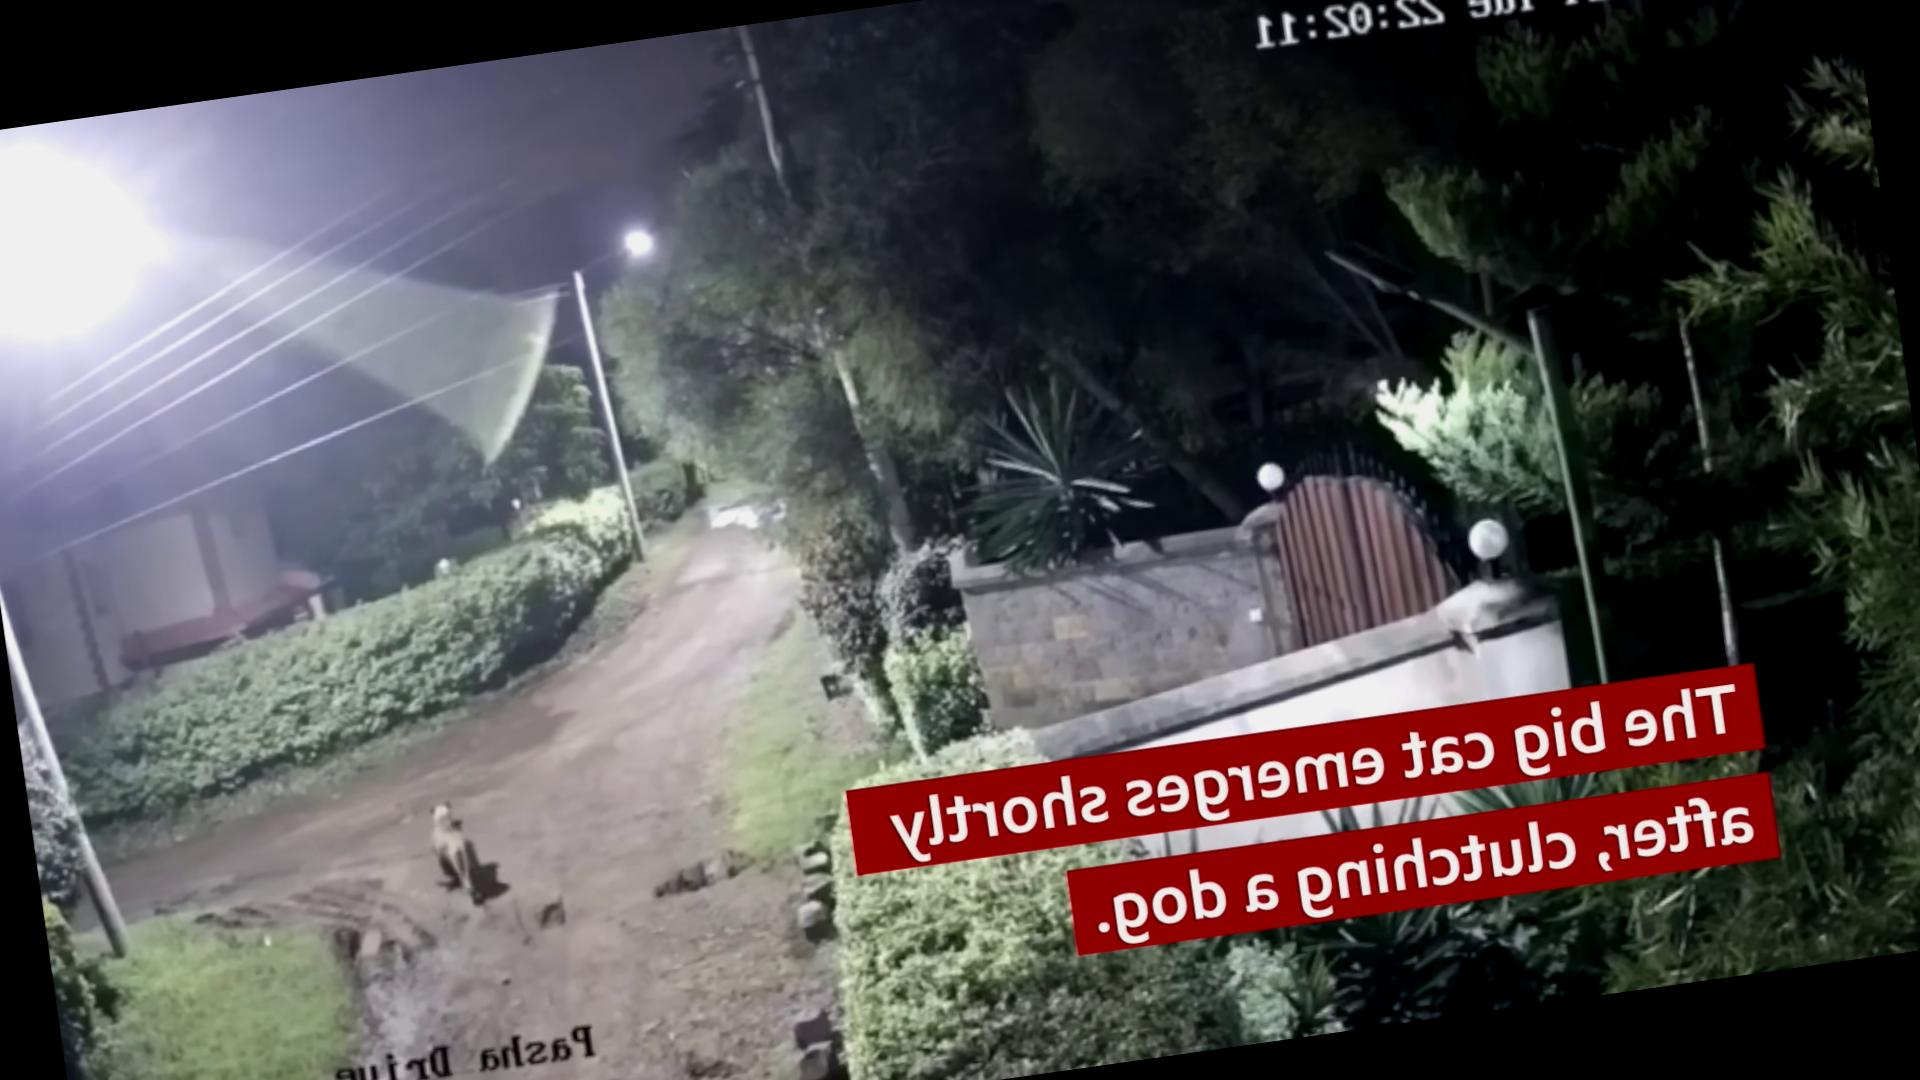lions: (394, 762, 544, 969)
